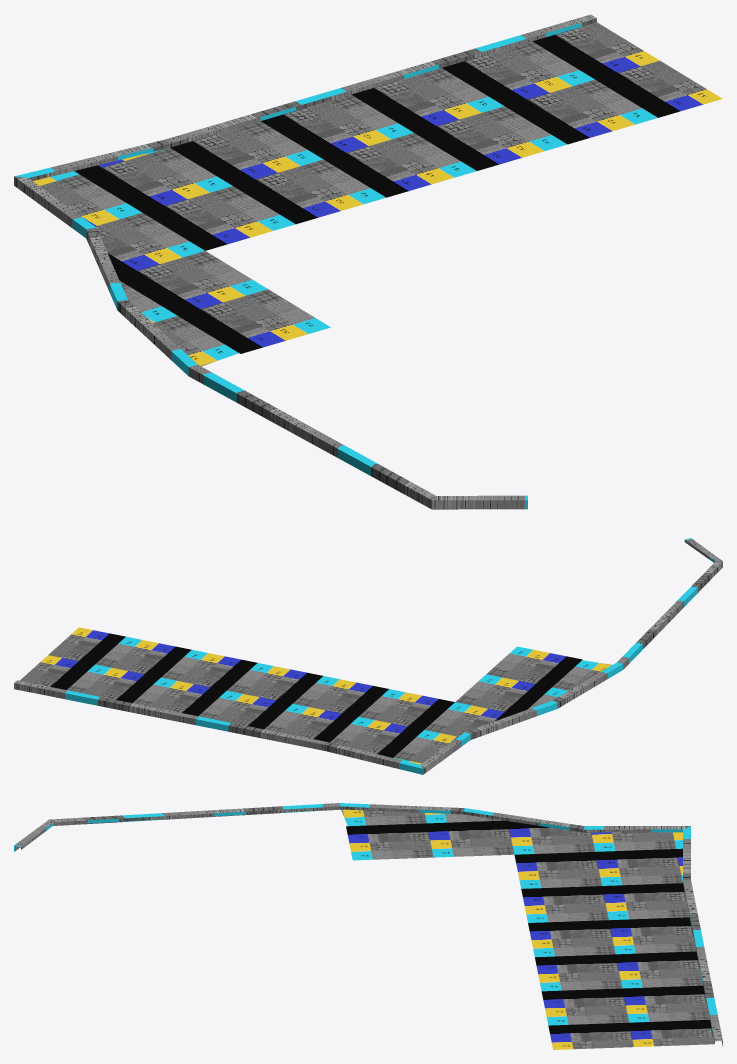
File: chinatown_sidewalk_5.fbx
3 views of the same model, one above another, from view 1: azimuth 30°, elevation 25°; view 2: azimuth 150°, elevation 25°; view 3: azimuth 270°, elevation 25° (orthographic). The views are drawn at different scales.
Parts seen in each view (by area): view 1: chinatown_curb_5; view 2: chinatown_curb_5; view 3: chinatown_curb_5.
Boxes of the visible parts, left/top/right/bottom form: chinatown_curb_5: left=14, top=14, right=722, bottom=509; chinatown_curb_5: left=14, top=538, right=722, bottom=774; chinatown_curb_5: left=14, top=803, right=722, bottom=1049.
Bounding box in the file's own units: 1067 × 13.87 × 1311.
